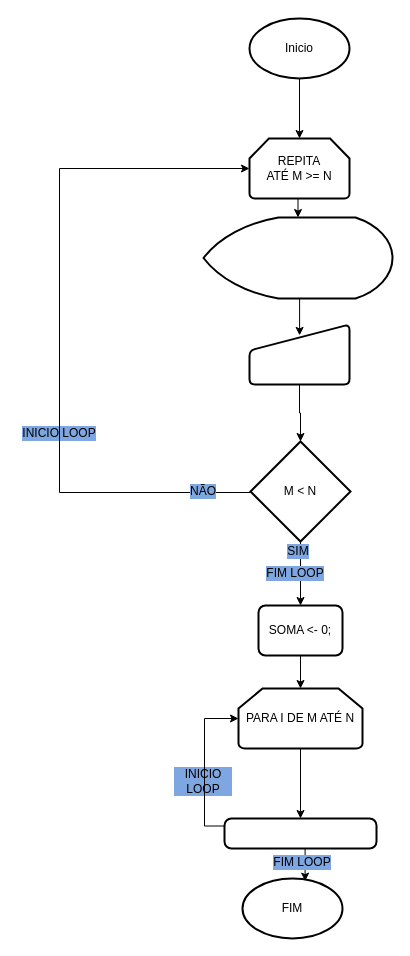
Image size: 410x956. Some labels were removed from this diagram. The centre of each missing label's shape, as x and y in pixels:
"INFORME O VALOR DE M E N (COM M < N):": point (297, 257)
LEIA M; LEIA N;: point (299, 354)
SOMA <- SOMA + I;: point (300, 833)
